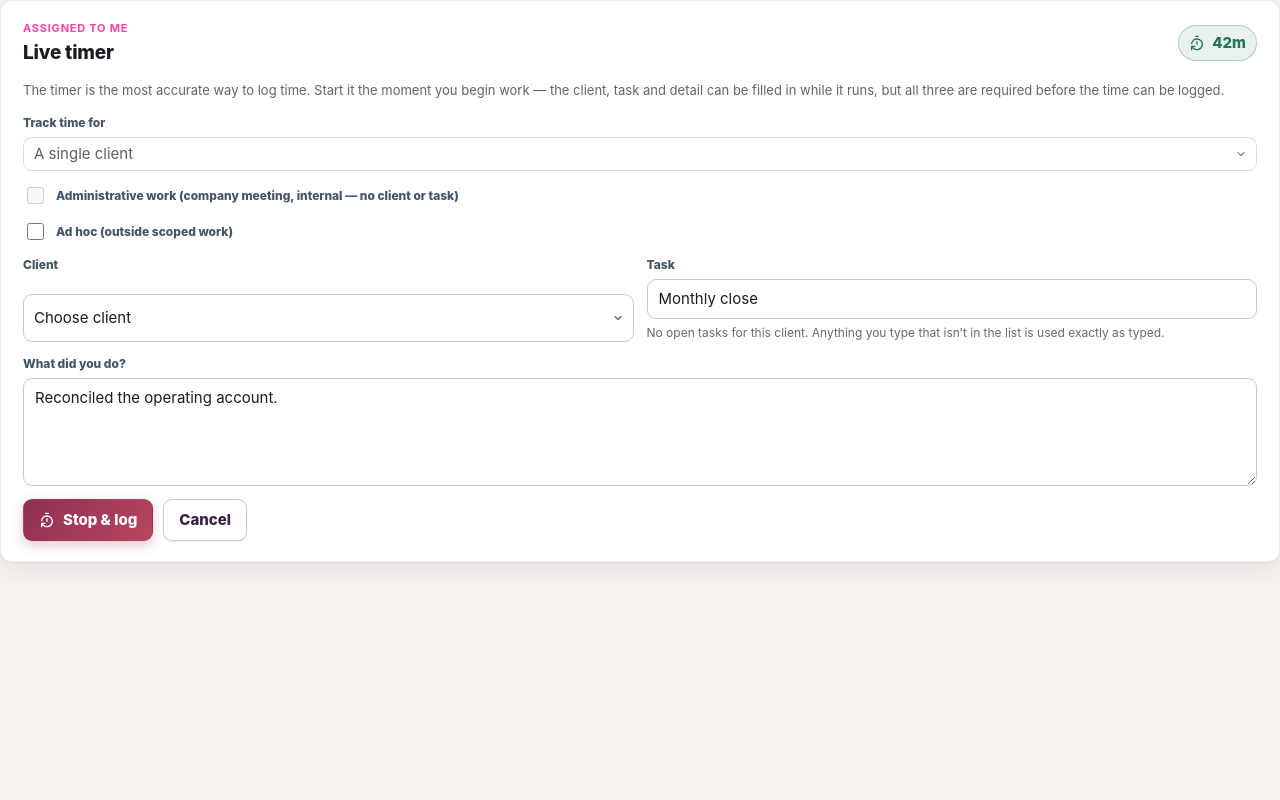
it: The timer panel client picker › answers a clientless Stop & log with the friendly prompt, not a raw error
Click the button "Stop & log".
click(88, 520)  # box 23,499 -> 153,541
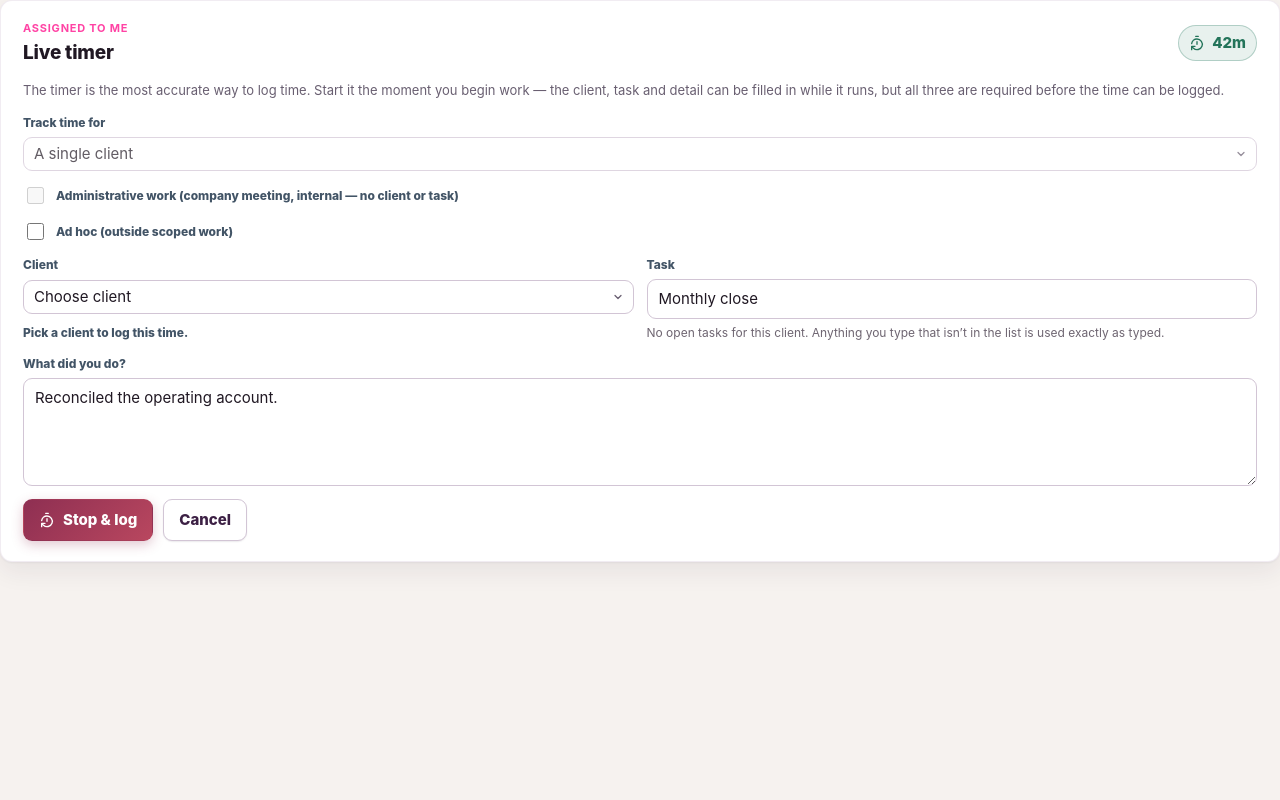
Expected: the text box labelled "What did you do?" holds "Reconciled the operating account.", 23,378 -> 1257,486
Result: the text "Pick a client to log this time." is shown at 23,325 -> 188,340
